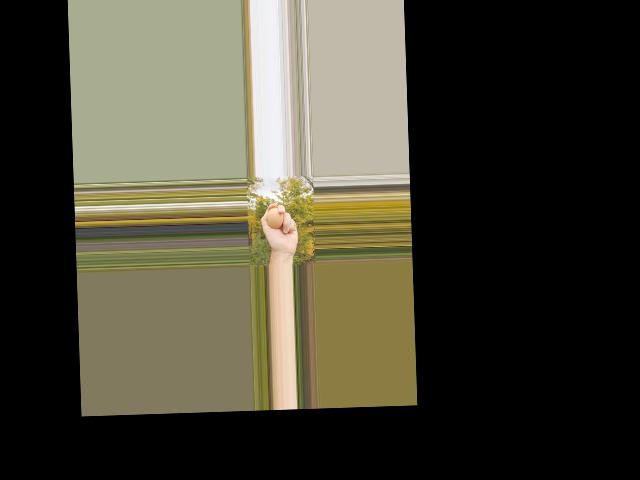egg: (267, 207, 284, 228)
